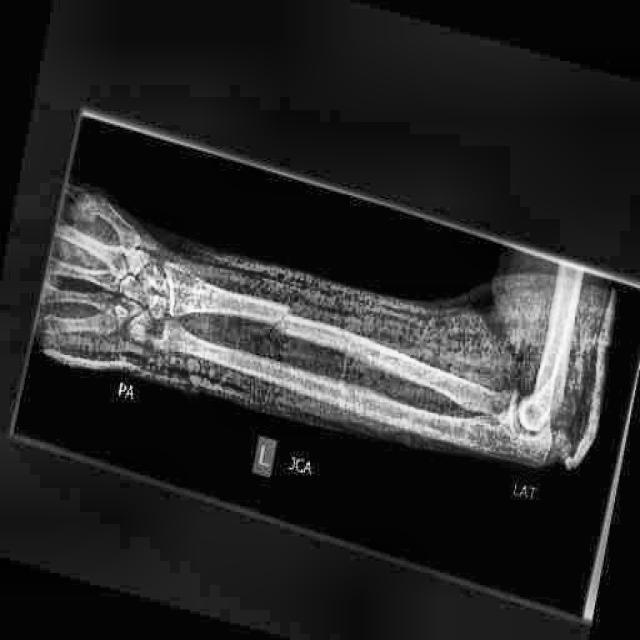forearm fracture: (243, 279, 344, 356)
